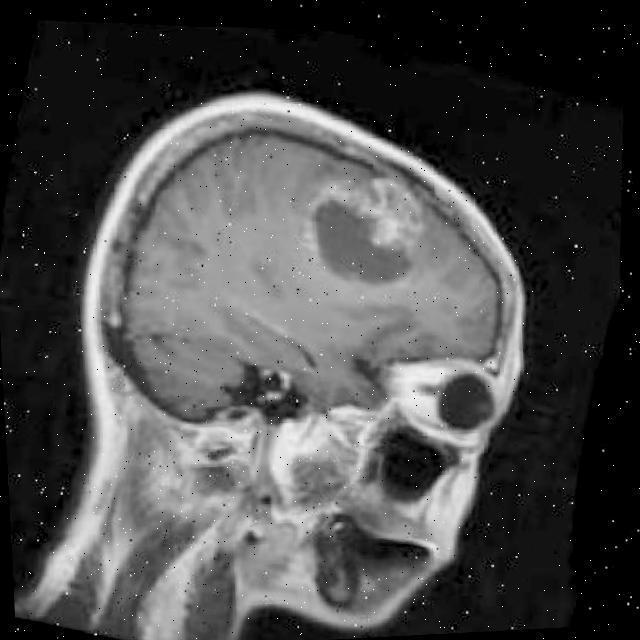LMCI: (314, 165, 438, 298)
